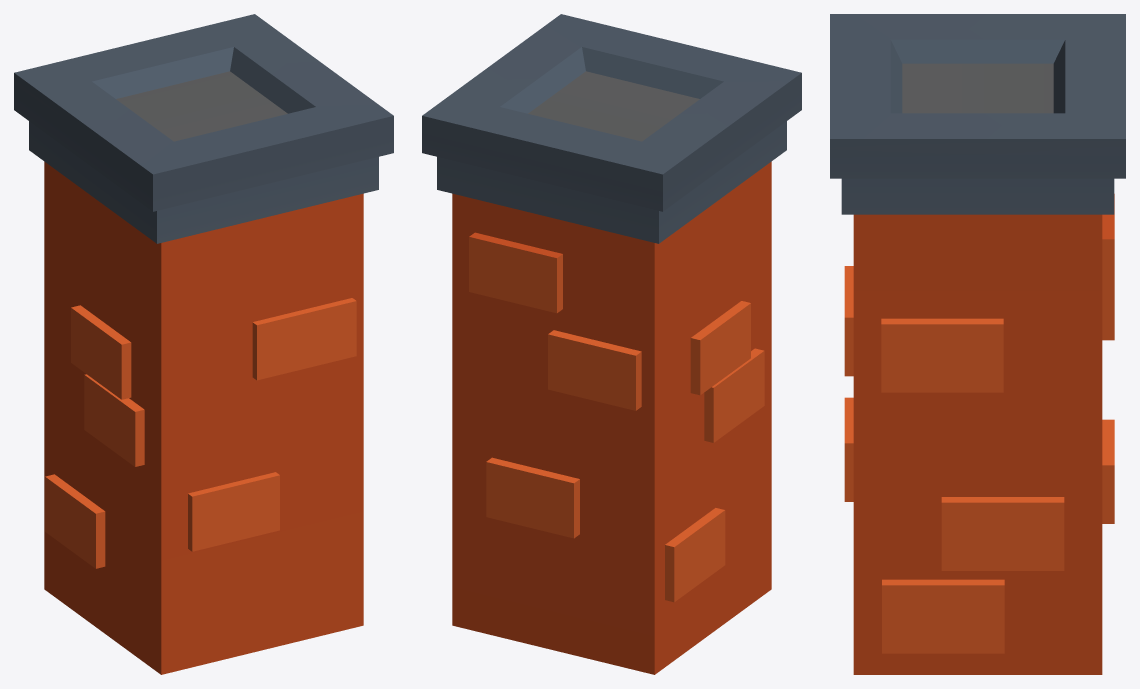
Rendered from Chimney_4_A_1.glb.
3 views of the same model, side by side, from view 1: azimuth 30°, elevation 25°; view 2: azimuth 150°, elevation 25°; view 3: azimuth 270°, elevation 25° (orthographic). The views are drawn at different scales.
Visible parts, largest first — view 1: Chimney_4_A_1; view 2: Chimney_4_A_1; view 3: Chimney_4_A_1.
Part boxes in pixels (x1,y1,x2,y2): Chimney_4_A_1: (14, 14, 393, 674); Chimney_4_A_1: (422, 14, 801, 674); Chimney_4_A_1: (830, 14, 1125, 674).
Bounding box in the file's own units: 0.827 × 1.68 × 0.827.
Materials: 1 (1 with a texture image).
